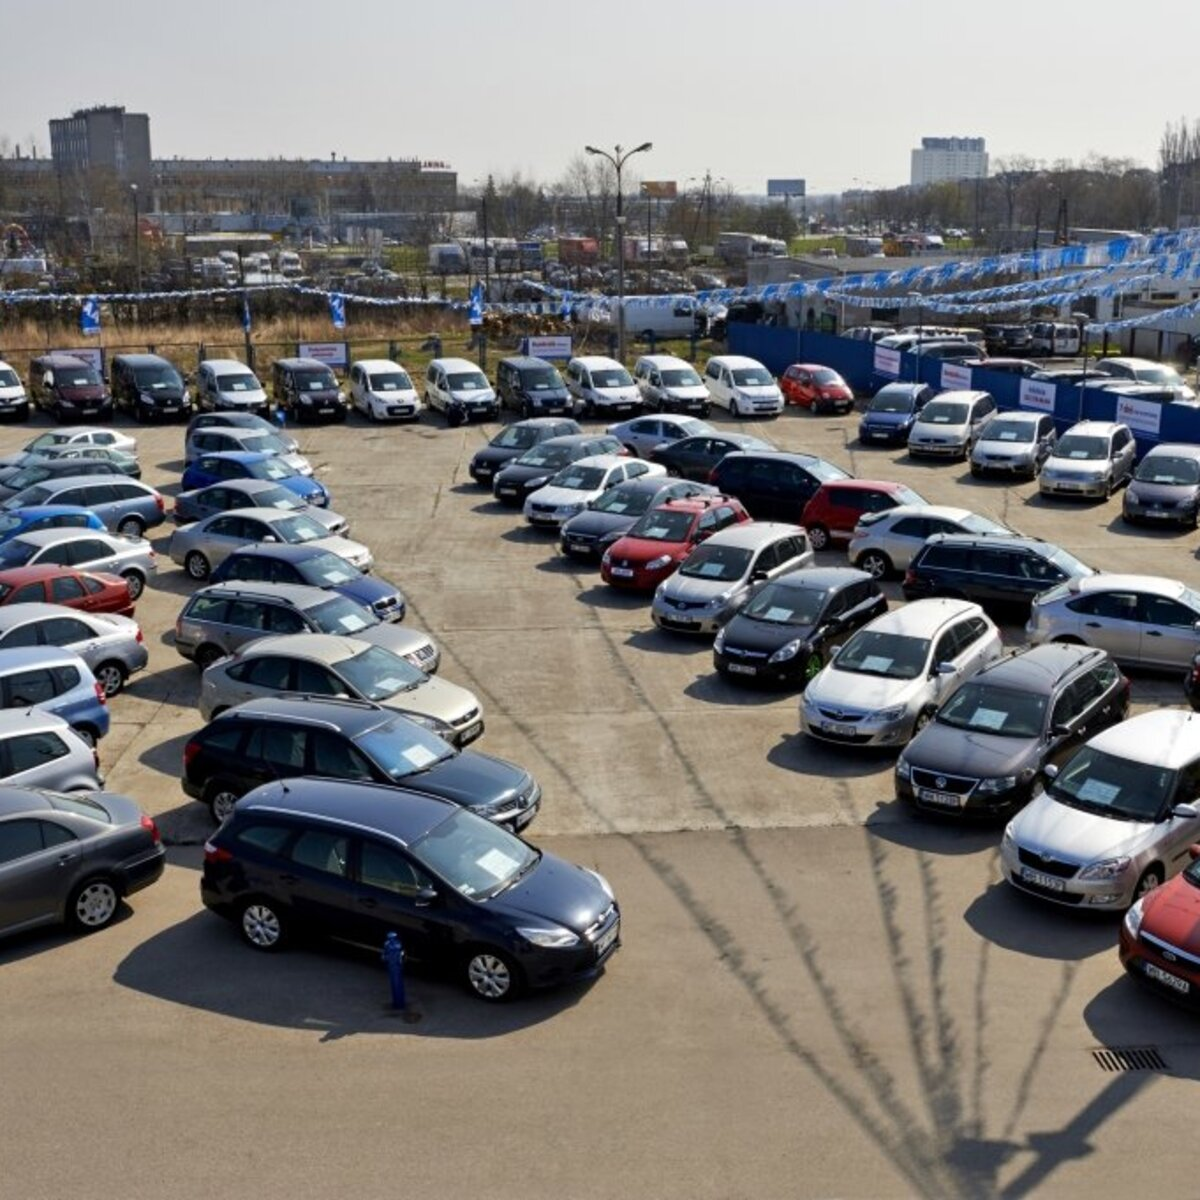Car: (199, 775, 622, 1002), (182, 695, 542, 832), (895, 642, 1132, 822), (1000, 709, 1200, 915), (199, 633, 485, 746), (799, 597, 1003, 751), (173, 577, 440, 673), (0, 785, 166, 938), (713, 566, 889, 687), (651, 520, 814, 637), (1026, 574, 1200, 674), (903, 531, 1103, 610), (600, 490, 749, 593), (213, 542, 405, 622), (169, 507, 373, 581), (0, 601, 148, 697), (559, 476, 719, 562), (1119, 842, 1200, 1005), (847, 504, 1016, 580), (0, 644, 110, 746), (0, 526, 157, 598), (523, 454, 669, 530), (0, 473, 167, 537), (710, 451, 847, 523), (173, 479, 349, 535), (491, 432, 629, 503), (801, 476, 927, 549), (0, 709, 105, 792), (1037, 418, 1137, 501), (181, 451, 330, 505), (469, 416, 582, 486), (0, 564, 136, 619), (1121, 441, 1200, 527), (907, 388, 998, 460), (649, 432, 779, 481), (186, 426, 314, 476), (0, 425, 137, 469), (969, 410, 1056, 479), (109, 353, 193, 422), (185, 411, 301, 460), (29, 354, 113, 421), (0, 457, 125, 501), (0, 442, 141, 480), (704, 354, 785, 419), (424, 356, 499, 425), (605, 413, 719, 458), (858, 380, 934, 446), (633, 354, 711, 418), (271, 357, 347, 422), (496, 355, 574, 418), (349, 357, 422, 424), (195, 357, 271, 418), (567, 356, 643, 416), (1092, 357, 1197, 400), (610, 293, 704, 341), (0, 503, 105, 542), (782, 363, 855, 414), (978, 322, 1034, 358), (714, 232, 774, 266), (905, 341, 989, 365), (1026, 322, 1080, 357), (0, 360, 30, 420), (448, 237, 497, 274), (959, 357, 1049, 376), (874, 334, 968, 352), (1100, 384, 1184, 402), (1067, 225, 1147, 244), (622, 235, 664, 269), (651, 233, 689, 269), (1029, 369, 1112, 386), (884, 234, 945, 256), (427, 243, 468, 275), (486, 236, 521, 273), (558, 237, 599, 267), (1074, 377, 1153, 390), (840, 326, 898, 343), (1185, 651, 1200, 710), (516, 241, 545, 271), (846, 236, 886, 258), (0, 258, 46, 276), (959, 326, 988, 354), (691, 271, 727, 291), (278, 251, 303, 277), (249, 251, 273, 274), (898, 325, 958, 334), (319, 276, 348, 293), (767, 237, 789, 256), (1167, 399, 1200, 410), (191, 263, 202, 277), (382, 236, 400, 245), (312, 241, 329, 248), (392, 240, 403, 246)
